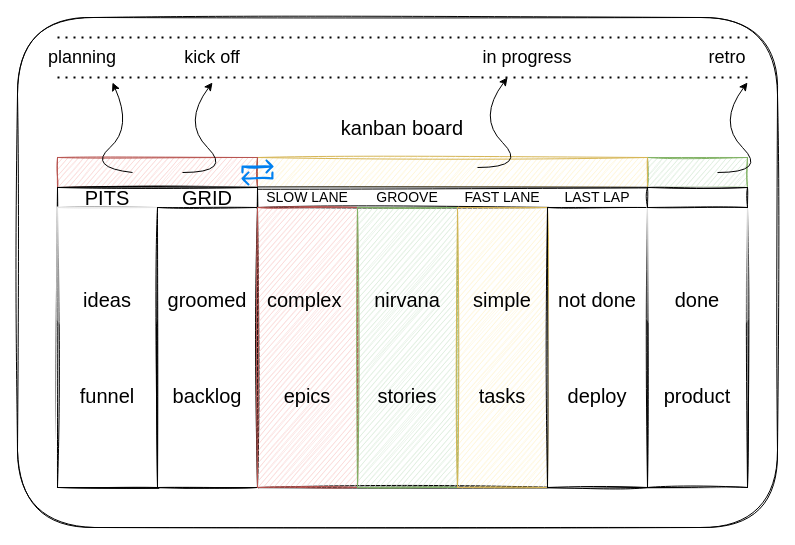
Image size: 795x545. Some labels were removed from this diagram. The box of each missing label's shape, as (x1, y1, x2, y2) in pixels:
DONE: (646, 186, 748, 208)
FIELD: (56, 156, 258, 188)
RACE: (256, 156, 648, 188)
WIN: (646, 156, 748, 188)
